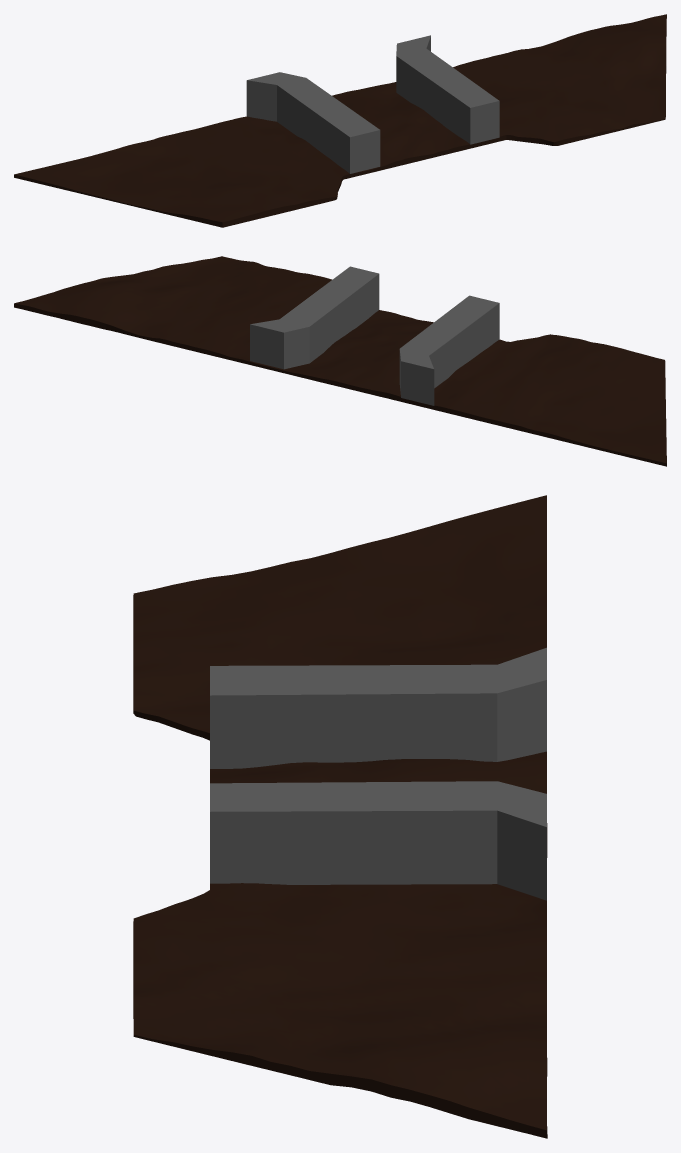
File: MDL_Garden_01.fbx
3 views of the same model, one above another, from view 1: azimuth 30°, elevation 25°; view 2: azimuth 150°, elevation 25°; view 3: azimuth 270°, elevation 25° (orthographic). The views are drawn at different scales.
Visible parts, largest first — view 1: MDL_Garden_01_Floor, MDL_Garden_01_Floor.001, MDL_Garden_01_Floor.002; view 2: MDL_Garden_01_Floor, MDL_Garden_01_Floor.002, MDL_Garden_01_Floor.001; view 3: MDL_Garden_01_Floor, MDL_Garden_01_Floor.002, MDL_Garden_01_Floor.001.
Boxes of the visible parts, x1,y1,x2,y2 form: MDL_Garden_01_Floor: (14, 14, 666, 227); MDL_Garden_01_Floor.001: (246, 72, 380, 173); MDL_Garden_01_Floor.002: (396, 35, 499, 144); MDL_Garden_01_Floor: (14, 256, 666, 466); MDL_Garden_01_Floor.002: (250, 266, 379, 369); MDL_Garden_01_Floor.001: (399, 295, 499, 405); MDL_Garden_01_Floor: (133, 495, 547, 1138); MDL_Garden_01_Floor.002: (210, 781, 546, 900); MDL_Garden_01_Floor.001: (210, 647, 546, 768).
Size of the model in its own units: 1030 by 61.35 by 283.
